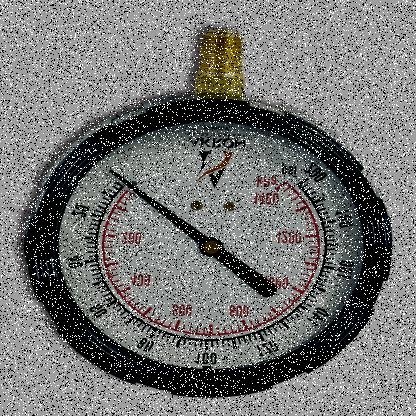needle: (109, 168, 209, 247)
